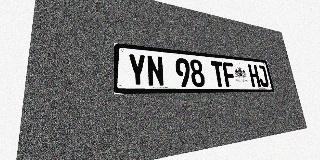8: (189, 59, 205, 87)
9: (175, 58, 192, 87)
F: (222, 62, 237, 87)
H: (248, 64, 261, 87)
J: (256, 65, 269, 87)
N: (146, 55, 165, 87)
T: (210, 61, 226, 87)
Y: (127, 53, 147, 87)
